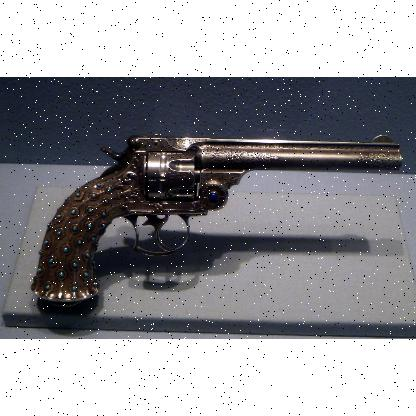gun: (31, 132, 402, 306)
